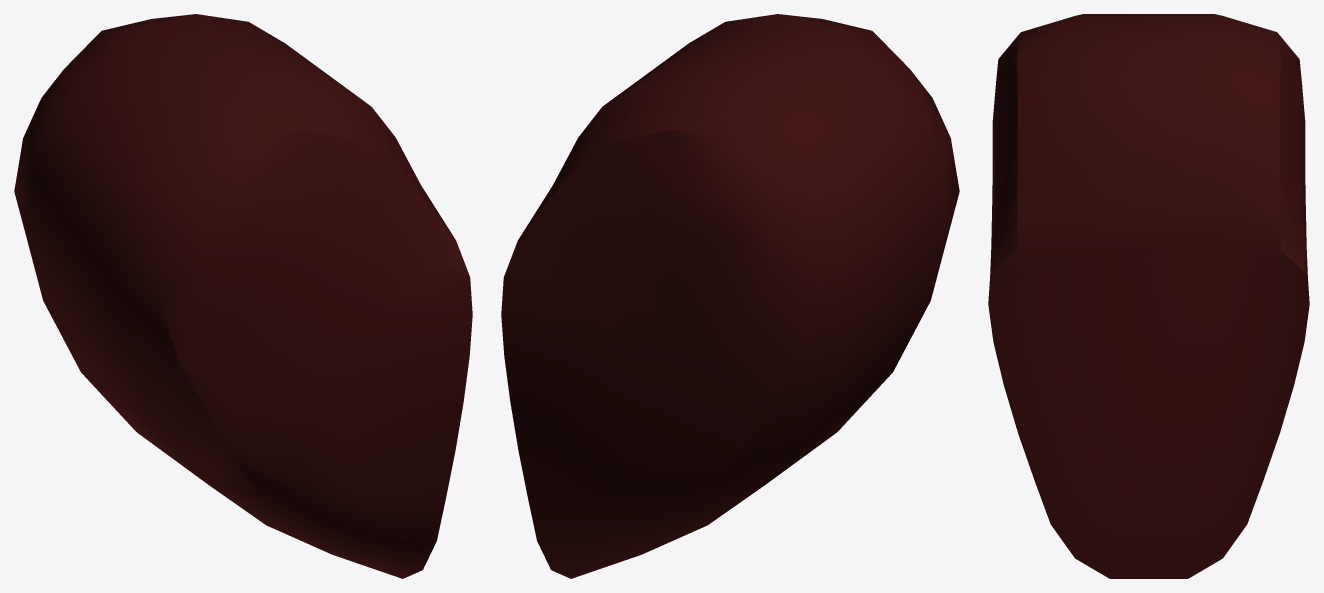
The model's file is heart-half.obj.
The picture shows the model from 3 angles, left to right: view 1: azimuth 30°, elevation 25°; view 2: azimuth 150°, elevation 25°; view 3: azimuth 270°, elevation 25°; orthographic projection. The views are drawn at different scales.
Parts seen in each view (by area): view 1: Heart_Half_Cube.007; view 2: Heart_Half_Cube.007; view 3: Heart_Half_Cube.007.
Part boxes in pixels (box(x1,y1,x2,y2)): Heart_Half_Cube.007: box(14, 14, 472, 578); Heart_Half_Cube.007: box(501, 14, 959, 578); Heart_Half_Cube.007: box(988, 14, 1309, 578).
Bounding box in the file's own units: 0.7401 × 1.24 × 0.7542.
